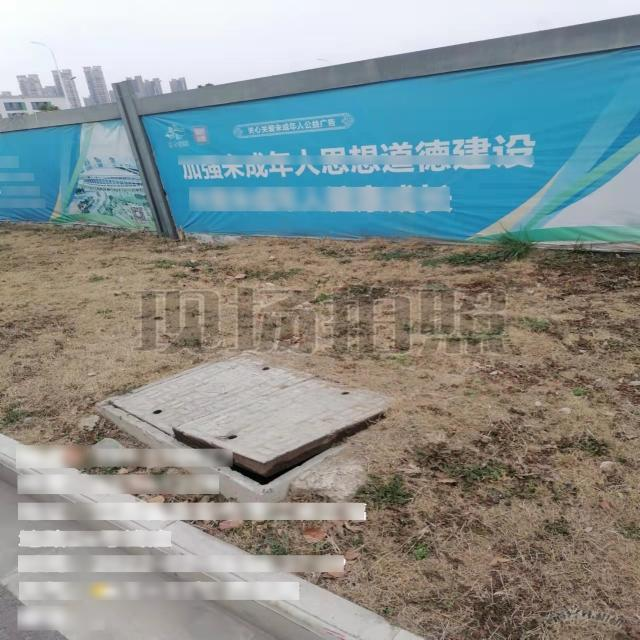Faulty: (92, 350, 400, 490)
